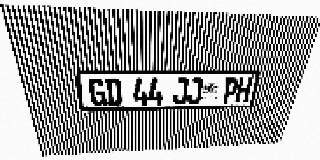4: (133, 78, 148, 105), (149, 78, 164, 105)
D: (105, 78, 122, 106)
G: (88, 78, 107, 106)
H: (235, 78, 253, 103)
J: (173, 78, 189, 104), (187, 78, 203, 104)
P: (222, 78, 239, 103)
